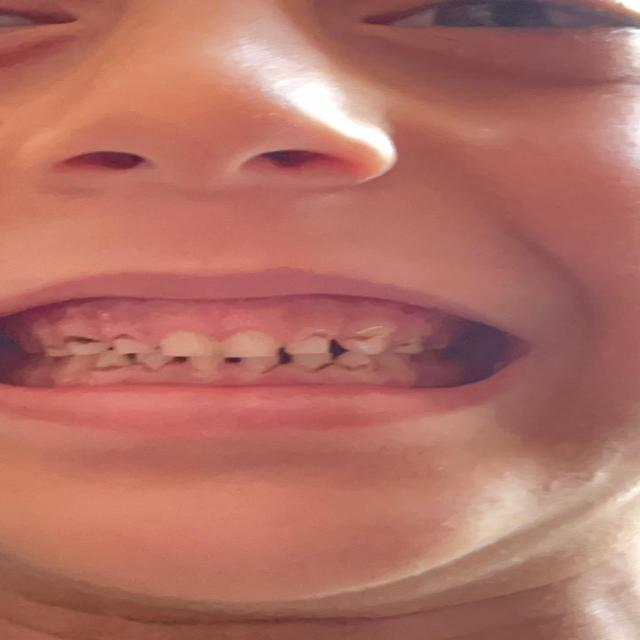tooth: (159, 329, 211, 356), (227, 338, 276, 358), (339, 335, 386, 353), (66, 335, 100, 355), (244, 356, 278, 376), (113, 339, 155, 353), (289, 339, 331, 353), (298, 356, 330, 374), (191, 358, 229, 372), (139, 354, 169, 370), (344, 353, 370, 371), (102, 355, 132, 369), (392, 341, 418, 355), (66, 357, 92, 369)
